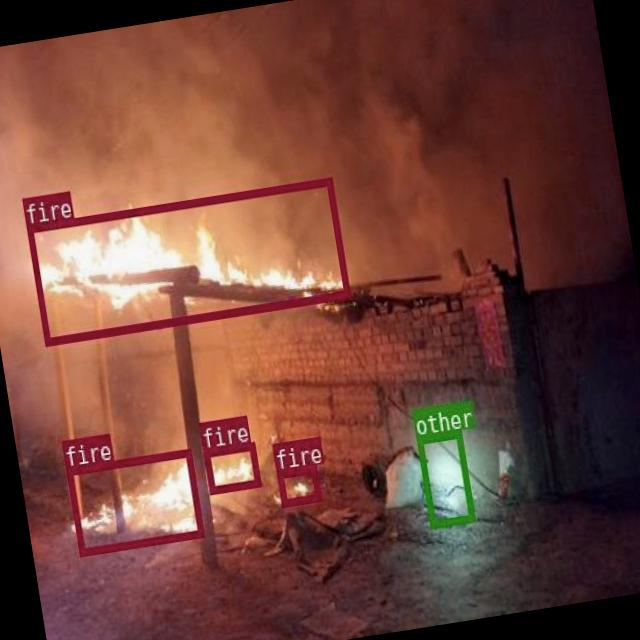fire: (26, 176, 350, 345), (65, 448, 204, 554), (202, 441, 260, 493), (276, 465, 320, 506)
